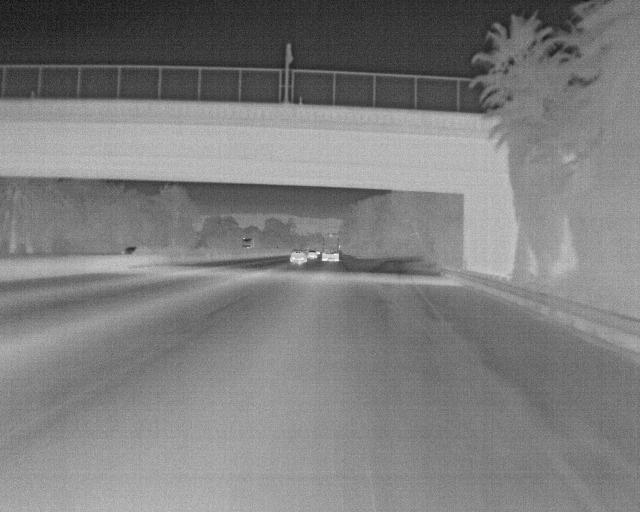car: (287, 246, 307, 265), (320, 245, 340, 262), (305, 245, 321, 261)
